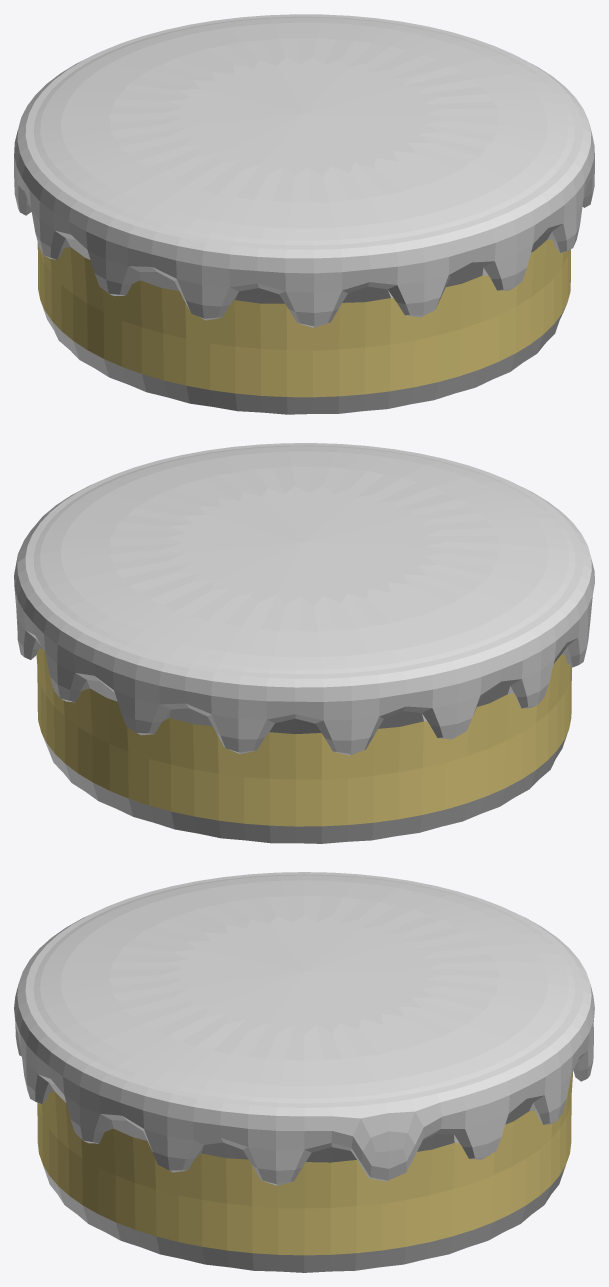
Rendered from CakeHoll.fbx.
3 views of the same model, one above another, from view 1: azimuth 30°, elevation 25°; view 2: azimuth 150°, elevation 25°; view 3: azimuth 270°, elevation 25° (orthographic).
Parts seen in each view (by area): view 1: 円柱; view 2: 円柱; view 3: 円柱.
Part boxes in pixels (x1,y1,x2,y2): 円柱: (14, 14, 594, 414); 円柱: (14, 443, 594, 843); 円柱: (14, 872, 594, 1272).
Size of the model in its own units: 712 by 263 by 712.
